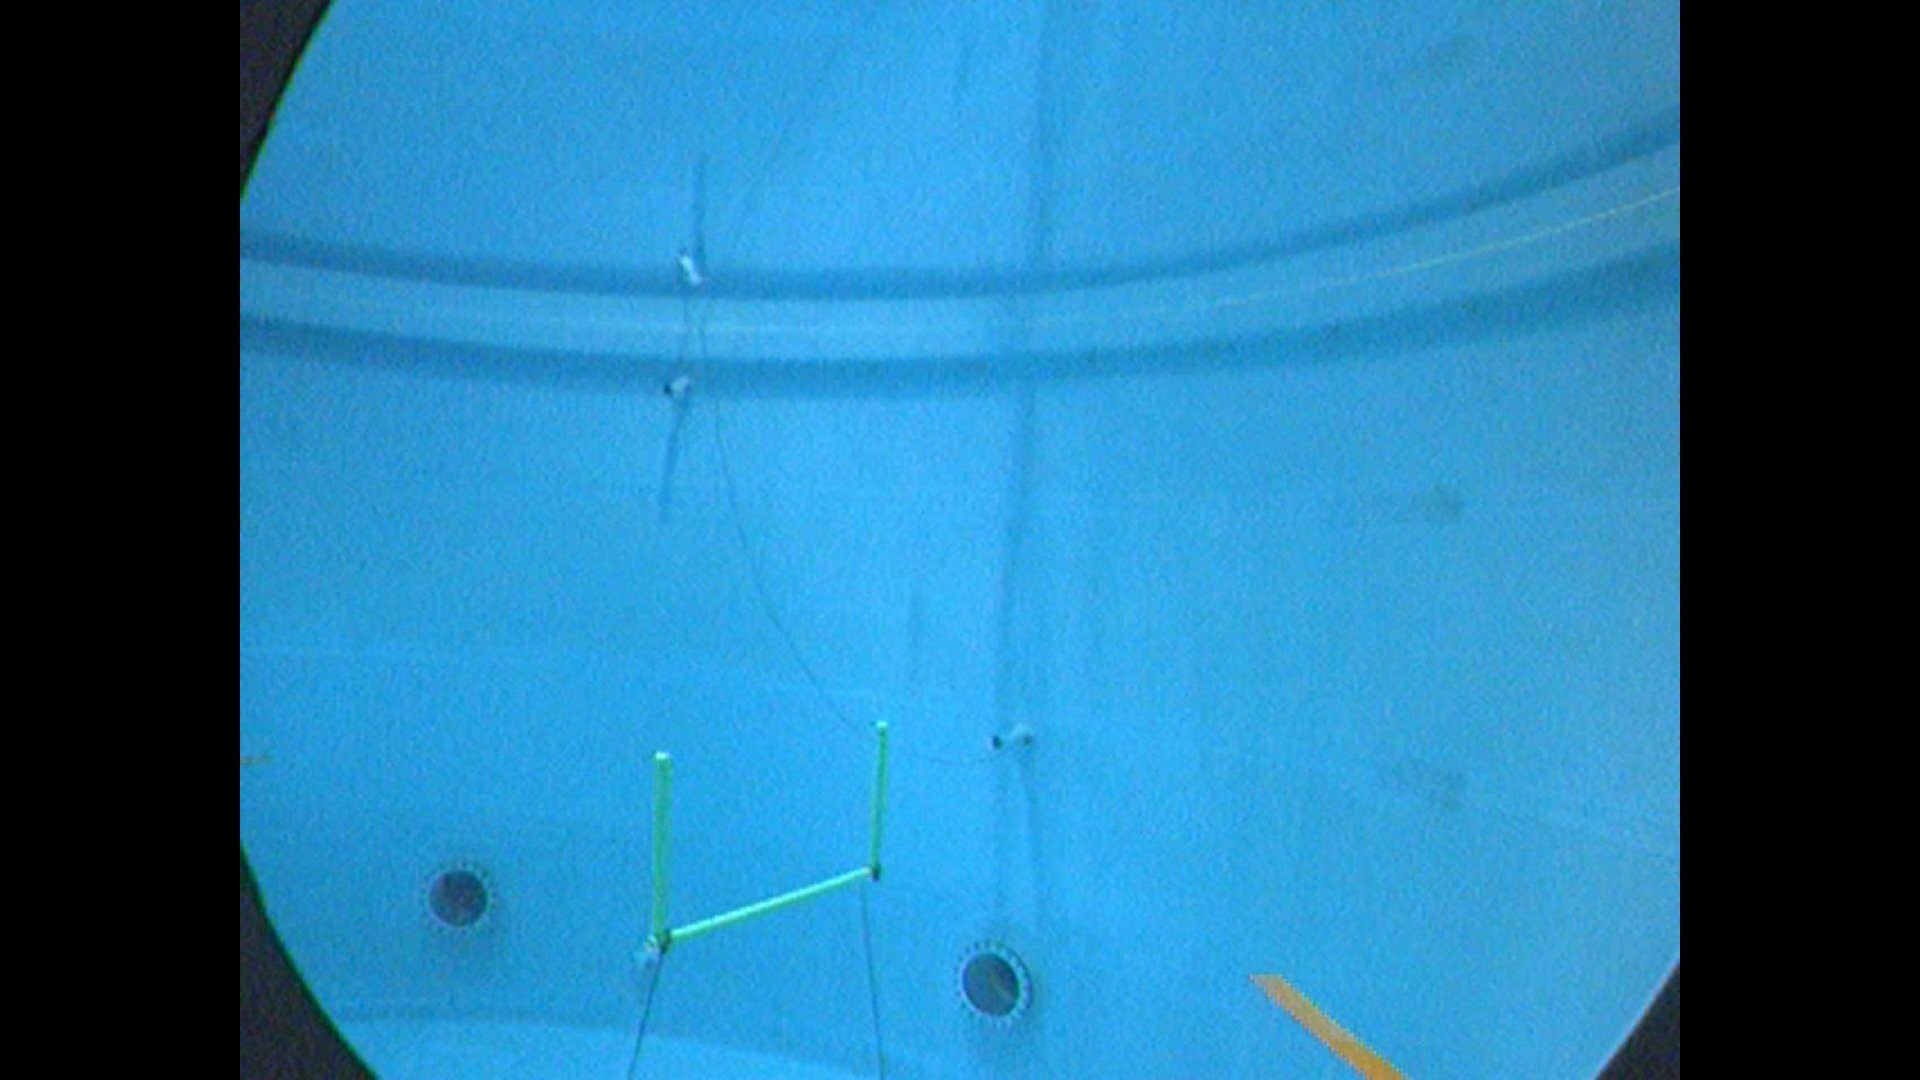gate: (642, 709, 895, 960)
